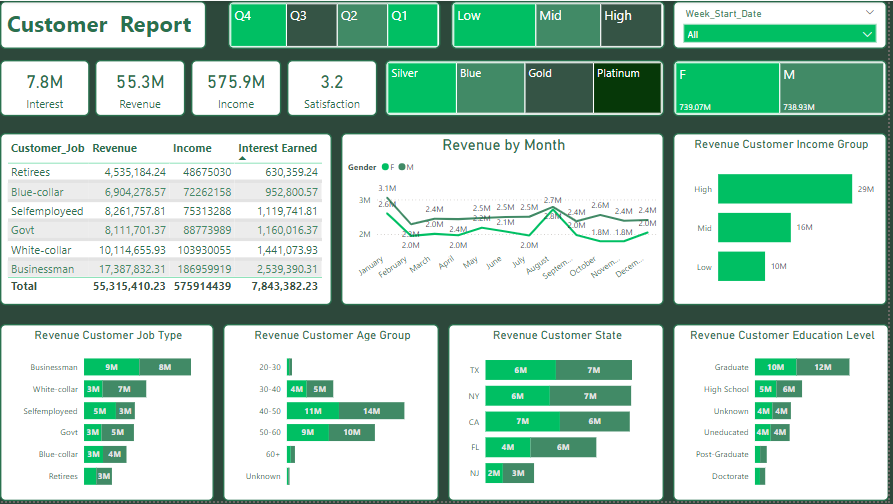

This screenshot's page, from the dashboard's own definition file:
{"tool":"powerbi","page":{"name":"Customer","canvas":[1280,720],"ordinal":2},"visuals":[{"type":"lineChart","title":"Revenue by Month","fields":{"Y":["Sum(ccdb cc_detail.Revenue)"],"Series":["ccdb cust_detail.Gender"],"Category":["ccdb cc_detail.Week_Start_Date.Variation.Date Hierarchy.Month"]},"box":[491,190.1,465.1,247.7],"z":0},{"type":"textbox","box":[0,0,296.6,69.1],"z":1000},{"type":"barChart","title":"Revenue Customer Income Group","fields":{"Category":["ccdb cust_detail.IncomeGroup"],"Y":["Sum(ccdb cc_detail.Revenue)"]},"box":[969.1,190.1,308.2,247.7],"z":2000},{"type":"tableEx","fields":{"Values":["ccdb cust_detail.Customer_Job","Sum(ccdb cc_detail.Revenue)","Sum(ccdb cust_detail.Income)","Sum(ccdb cc_detail.Interest_Earned)"]},"box":[0,190.1,478.1,247.7],"z":3000},{"type":"card","fields":{"Values":["Sum(ccdb cc_detail.Revenue)"]},"box":[136.8,85,129.6,80.6],"z":4000},{"type":"card","fields":{"Values":["Sum(ccdb cust_detail.Income)"]},"box":[275,85,129.6,80.6],"z":5000},{"type":"card","fields":{"Values":["Avg(ccdb cust_detail.Cust_Satisfaction_Score)"]},"box":[413.3,85,129.6,80.6],"z":6000},{"type":"card","fields":{"Values":["Sum(ccdb cc_detail.Interest_Earned)"]},"box":[0,85,129,80.8],"z":7000},{"type":"slicer","fields":{"Values":["ccdb cc_detail.Week_Start_Date"]},"box":[969.4,0,307.6,69.4],"z":8000},{"type":"treemap","fields":{"Group":["ccdb cc_detail.Qtr"],"Values":["Median(ccdb cc_detail.Client_Num)"]},"box":[328.8,0,306.1,69.4],"z":9000},{"type":"treemap","fields":{"Values":["Avg(ccdb cc_detail.Client_Num)"],"Group":["ccdb cust_detail.Gender"]},"box":[969.4,85,307.6,80.8],"z":10000},{"type":"treemap","fields":{"Values":["Avg(ccdb cc_detail.Client_Num)"],"Group":["ccdb cc_detail.Card_Category"]},"box":[554.4,85,401.8,80.6],"z":11000},{"type":"treemap","fields":{"Values":["Sum(ccdb cc_detail.Client_Num)"],"Group":["ccdb cust_detail.IncomeGroup"]},"box":[649.1,0,307.6,69.4],"z":12000},{"type":"barChart","title":"Revenue Customer Age Group","fields":{"Category":["ccdb cust_detail.AgeGroup"],"Y":["Sum(ccdb cc_detail.Revenue)"],"Series":["ccdb cust_detail.Gender"]},"box":[321.1,465.1,311,254.9],"z":13000},{"type":"barChart","title":"Revenue Customer Job Type","fields":{"Category":["ccdb cust_detail.Customer_Job"],"Y":["Sum(ccdb cc_detail.Revenue)"],"Series":["ccdb cust_detail.Gender"]},"box":[0,465.1,308.2,254.9],"z":14000},{"type":"barChart","title":"Revenue Customer Education Level","fields":{"Category":["ccdb cust_detail.Education_Level"],"Y":["Sum(ccdb cc_detail.Revenue)"],"Series":["ccdb cust_detail.Gender"]},"box":[969.1,465.1,311,254.9],"z":15000},{"type":"barChart","title":"Revenue Customer State","fields":{"Category":["ccdb cust_detail.State_cd"],"Y":["Sum(ccdb cc_detail.Revenue)"],"Series":["ccdb cust_detail.Gender"]},"box":[645.1,465.1,311,254.9],"z":16000}]}

Visuals, with their boxes in screenshot pixels (x1, y1, x2, y2), scaled from the page's 1280x720 canvas onto the 893x504 screenshot:
"Revenue by Month" lineChart: <bbox>343, 133, 667, 306</bbox>
textbox: <bbox>0, 0, 207, 48</bbox>
"Revenue Customer Income Group" barChart: <bbox>676, 133, 891, 306</bbox>
tableEx - ccdb cust_detail.Customer_Job x Sum(ccdb cc_detail.Revenue): <bbox>0, 133, 334, 306</bbox>
card - Sum(ccdb cc_detail.Revenue): <bbox>95, 59, 186, 116</bbox>
card - Sum(ccdb cust_detail.Income): <bbox>192, 59, 282, 116</bbox>
card - Avg(ccdb cust_detail.Cust_Satisfaction_Score): <bbox>288, 59, 379, 116</bbox>
card - Sum(ccdb cc_detail.Interest_Earned): <bbox>0, 59, 90, 116</bbox>
slicer - ccdb cc_detail.Week_Start_Date: <bbox>676, 0, 891, 49</bbox>
treemap - ccdb cc_detail.Qtr x Median(ccdb cc_detail.Client_Num): <bbox>229, 0, 443, 49</bbox>
treemap - Avg(ccdb cc_detail.Client_Num) x ccdb cust_detail.Gender: <bbox>676, 59, 891, 116</bbox>
treemap - Avg(ccdb cc_detail.Client_Num) x ccdb cc_detail.Card_Category: <bbox>387, 59, 667, 116</bbox>
treemap - Sum(ccdb cc_detail.Client_Num) x ccdb cust_detail.IncomeGroup: <bbox>453, 0, 667, 49</bbox>
"Revenue Customer Age Group" barChart: <bbox>224, 326, 441, 503</bbox>
"Revenue Customer Job Type" barChart: <bbox>0, 326, 215, 503</bbox>
"Revenue Customer Education Level" barChart: <bbox>676, 326, 892, 503</bbox>
"Revenue Customer State" barChart: <bbox>450, 326, 667, 503</bbox>
